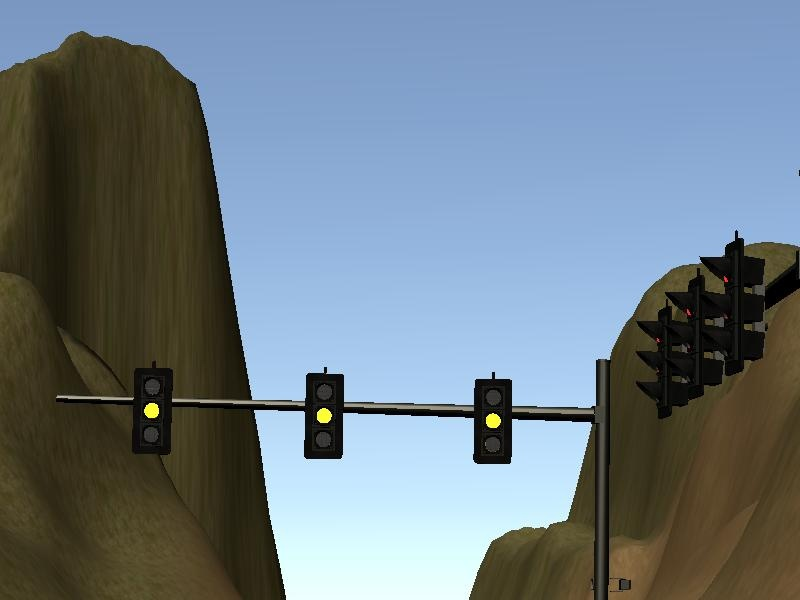YELLOW: (130, 364, 174, 456), (302, 373, 342, 459), (472, 378, 512, 464)
